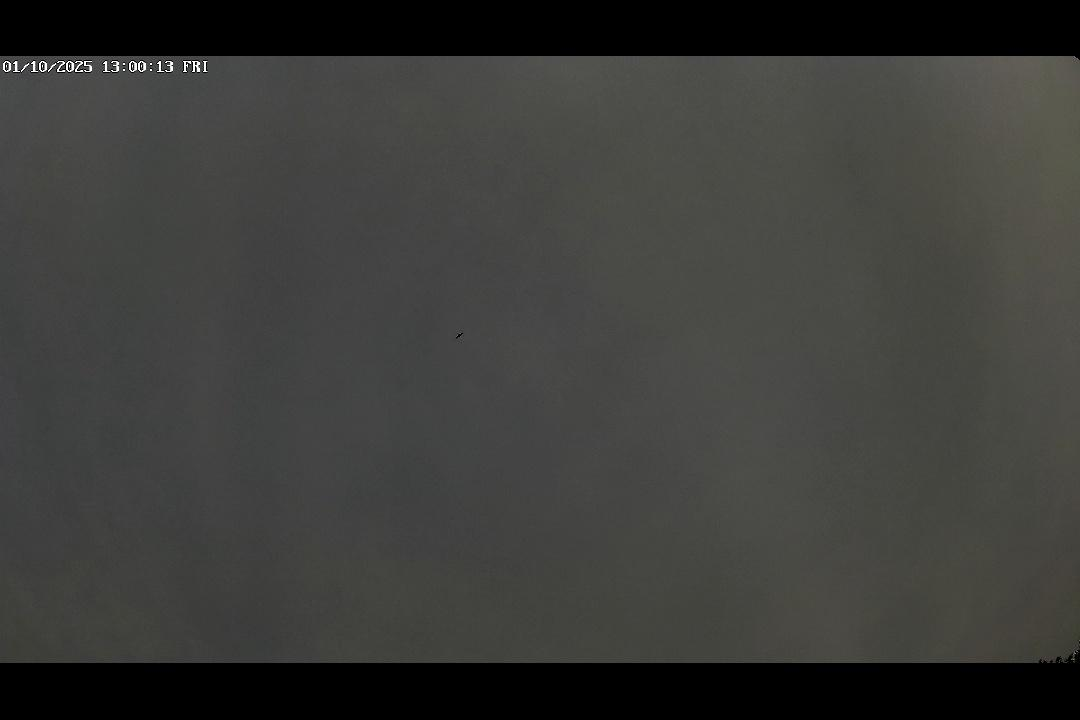WildLife: (441, 321, 476, 346)
